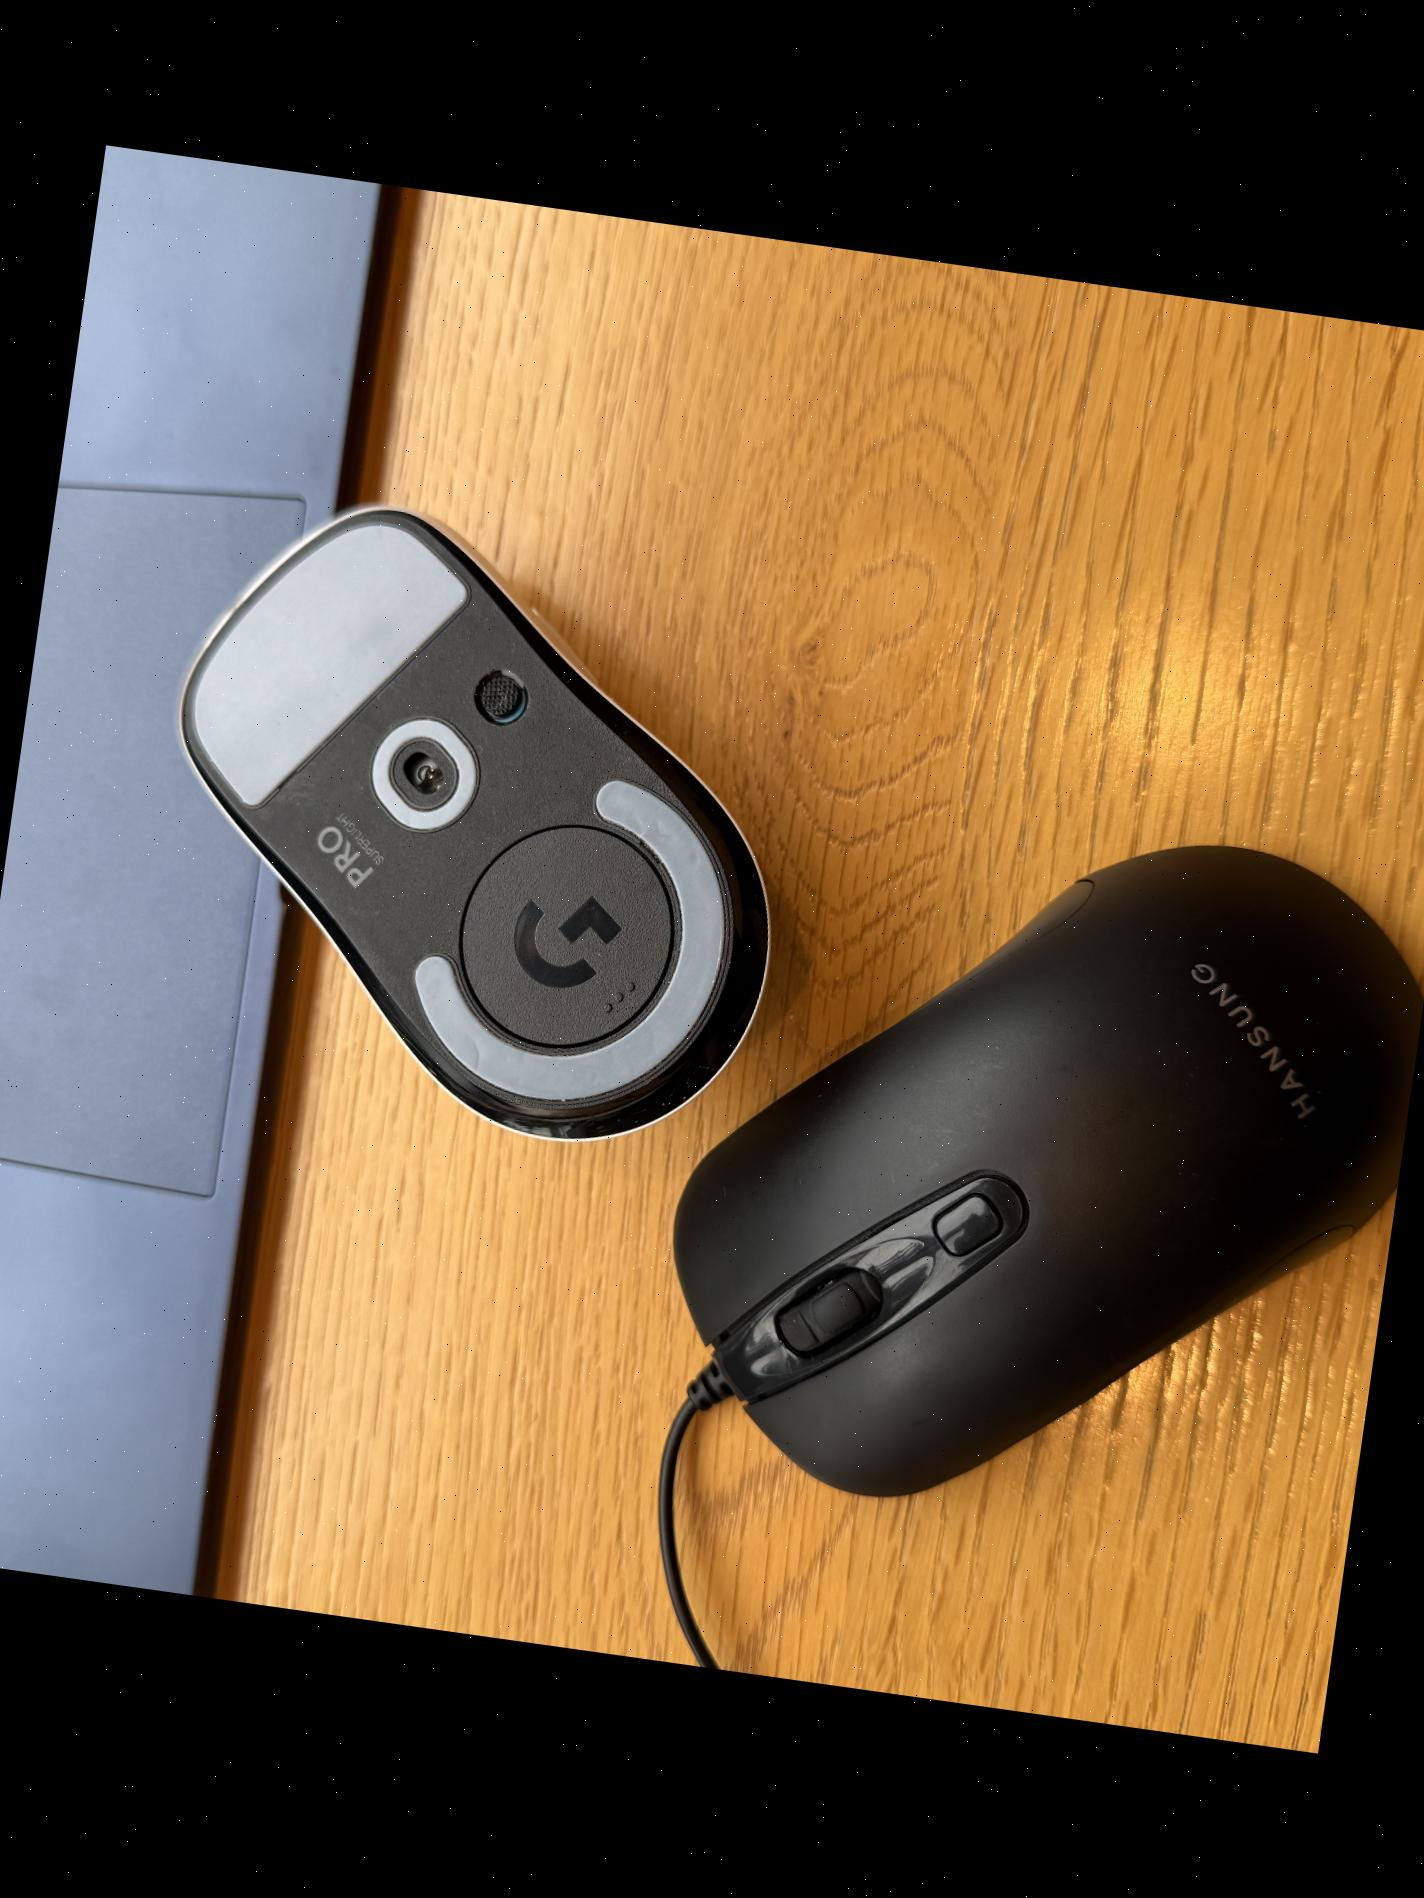back: (118, 479, 824, 1170)
front: (639, 764, 1424, 1566)
